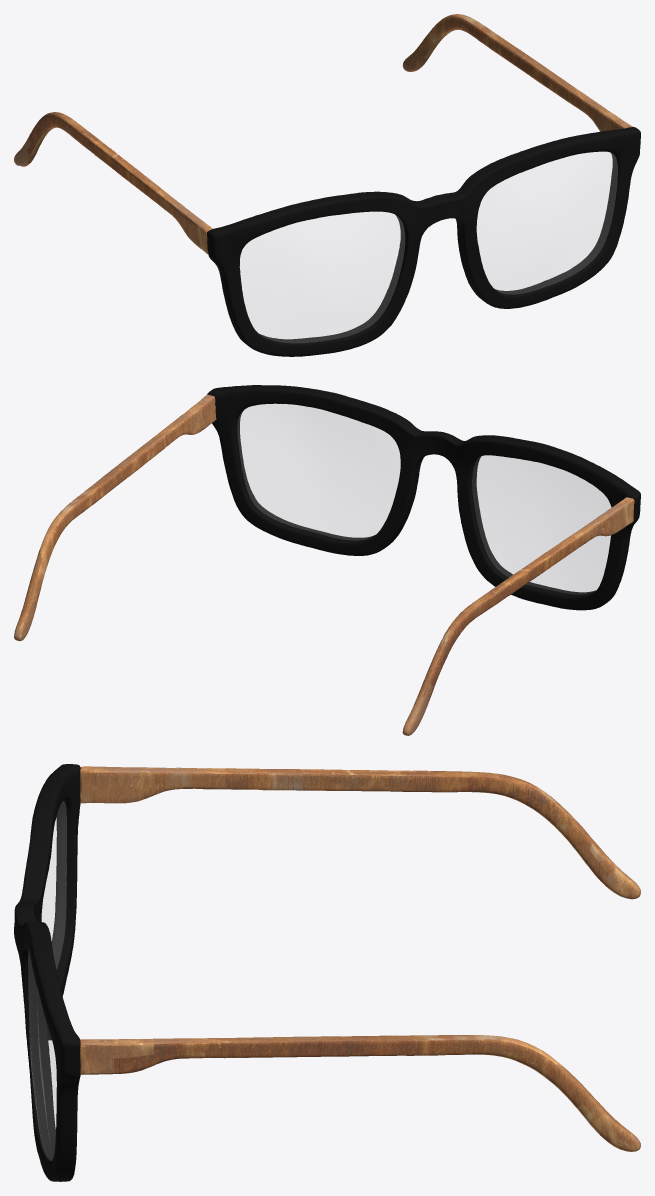
File: glasses-2.glb
3 views of the same model, one above another, from view 1: azimuth 30°, elevation 25°; view 2: azimuth 150°, elevation 25°; view 3: azimuth 270°, elevation 25° (orthographic). The views are drawn at different scales.
Parts seen in each view (by area): view 1: Glasses_3, Frame_1, Handles_2; view 2: Glasses_3, Frame_1, Handles_2; view 3: Handles_2, Frame_1, Glasses_3.
Part boxes in pixels (x1=…): Glasses_3: x1=240, y1=152, x2=617, y2=342; Frame_1: x1=207, y1=127, x2=640, y2=356; Handles_2: x1=14, y1=14, x2=632, y2=254; Glasses_3: x1=237, y1=404, x2=610, y2=594; Frame_1: x1=207, y1=385, x2=640, y2=610; Handles_2: x1=14, y1=394, x2=634, y2=735; Handles_2: x1=80, y1=766, x2=640, y2=1151; Frame_1: x1=14, y1=764, x2=80, y2=1181; Glasses_3: x1=28, y1=801, x2=66, y2=1160.
Bounding box in the file's own units: 1.41 × 0.4824 × 1.33.
Materials: 3 (1 with a texture image).
